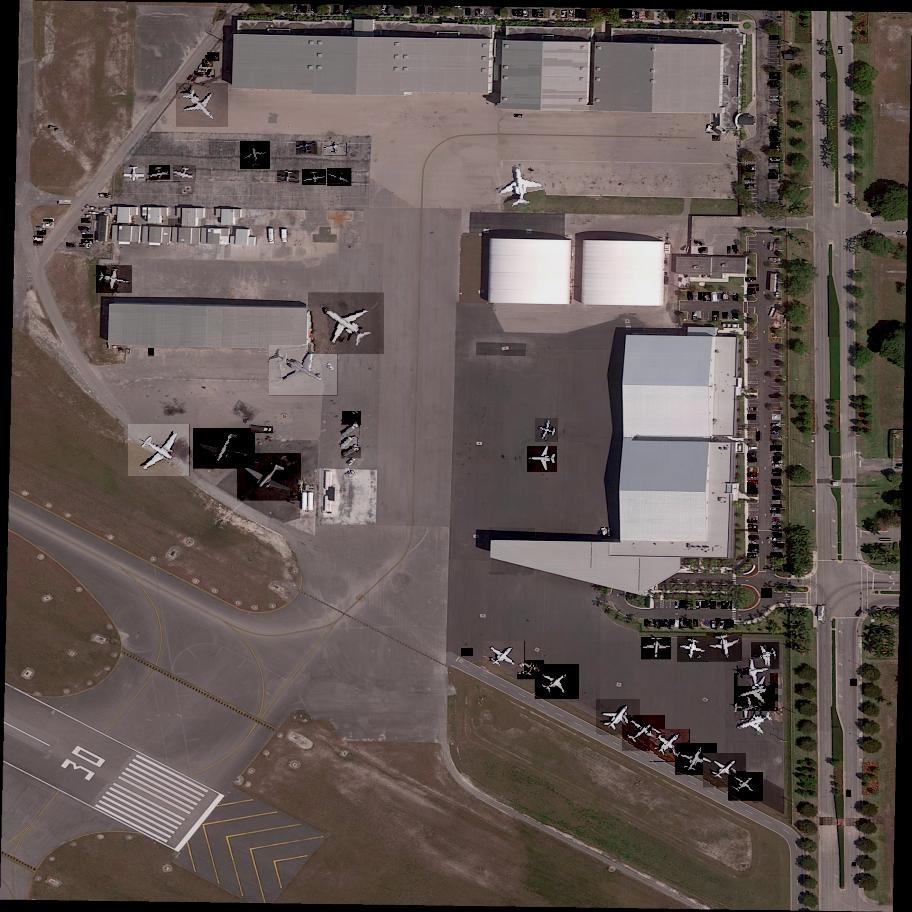large-vehicle: (342, 411, 361, 427), (341, 434, 359, 450), (341, 423, 359, 439), (342, 447, 361, 459), (252, 426, 272, 434), (818, 607, 826, 621)
plane: (308, 287, 384, 362), (269, 339, 338, 400), (128, 419, 190, 481), (237, 451, 302, 504), (194, 427, 256, 471), (177, 80, 228, 132), (496, 163, 547, 210), (536, 661, 580, 704), (622, 712, 666, 754), (703, 750, 746, 792), (596, 697, 640, 738), (734, 673, 779, 713), (734, 703, 778, 743), (484, 638, 525, 677), (650, 726, 690, 765), (675, 741, 717, 777), (728, 769, 763, 804), (707, 634, 743, 664), (97, 265, 133, 293), (738, 657, 771, 687), (751, 642, 781, 671), (240, 141, 271, 169), (677, 636, 708, 663), (527, 446, 557, 473), (517, 658, 544, 683), (642, 637, 671, 659), (535, 418, 559, 443), (734, 695, 757, 721), (327, 168, 352, 187), (174, 165, 198, 183), (302, 170, 326, 186), (149, 165, 171, 182), (277, 170, 300, 184), (325, 143, 348, 157), (296, 142, 319, 156), (125, 167, 145, 182)
small-vehicle: (344, 469, 358, 480), (346, 457, 358, 469), (762, 588, 774, 599), (207, 51, 220, 61), (202, 58, 213, 69), (725, 619, 735, 630), (461, 648, 473, 657), (42, 222, 55, 229), (619, 9, 628, 19), (703, 293, 712, 303), (712, 292, 720, 303), (748, 284, 759, 292), (693, 239, 704, 247), (712, 311, 720, 322), (206, 70, 215, 79), (206, 55, 215, 64), (770, 72, 780, 80), (333, 5, 341, 15), (710, 620, 718, 630), (680, 619, 688, 629), (699, 247, 709, 255), (770, 553, 783, 559), (748, 547, 759, 554), (768, 173, 779, 180), (747, 406, 758, 413), (600, 528, 608, 537), (625, 11, 633, 20), (575, 10, 583, 19), (770, 445, 782, 451), (37, 230, 47, 237), (686, 600, 693, 610), (685, 619, 692, 629), (687, 291, 694, 301), (772, 422, 782, 429), (768, 81, 779, 87), (769, 126, 780, 132), (747, 488, 758, 494), (748, 536, 759, 542), (769, 157, 780, 163), (732, 246, 740, 254), (418, 6, 425, 15), (512, 9, 519, 18), (723, 13, 730, 22), (707, 124, 714, 133), (649, 619, 656, 628), (721, 601, 728, 610), (723, 292, 730, 301), (67, 242, 77, 248), (198, 67, 208, 73), (200, 64, 210, 70), (721, 619, 727, 629), (772, 532, 782, 538), (871, 213, 881, 219), (769, 35, 779, 41), (748, 524, 758, 530), (746, 166, 756, 172), (771, 480, 781, 486), (747, 415, 757, 421), (772, 415, 782, 421), (640, 12, 647, 20), (850, 679, 857, 687), (98, 193, 109, 198), (747, 472, 758, 477), (772, 464, 783, 469), (34, 226, 43, 232), (712, 135, 721, 141), (562, 10, 568, 19), (524, 9, 530, 18), (195, 71, 204, 77), (773, 487, 782, 493), (748, 528, 758, 533), (749, 540, 759, 545), (668, 12, 675, 19), (705, 601, 712, 608), (475, 9, 481, 17), (329, 369, 335, 377), (78, 227, 90, 231), (518, 9, 524, 17), (748, 483, 756, 489), (733, 293, 739, 301), (34, 241, 43, 246), (538, 9, 543, 18), (700, 619, 705, 628), (747, 553, 756, 558), (772, 525, 781, 530), (769, 134, 778, 139), (747, 289, 756, 294), (773, 521, 782, 526), (465, 9, 471, 16), (659, 620, 665, 627), (726, 601, 732, 608), (693, 294, 699, 301), (723, 313, 729, 320), (149, 348, 154, 356), (707, 13, 712, 21), (293, 5, 298, 13), (770, 130, 778, 135), (715, 619, 720, 627), (770, 142, 780, 146), (773, 516, 781, 521), (771, 435, 781, 439), (81, 219, 90, 223), (81, 240, 93, 243), (59, 201, 71, 204), (701, 602, 707, 608), (748, 458, 757, 462), (747, 462, 756, 466), (749, 516, 758, 520), (772, 513, 781, 517), (756, 431, 760, 440), (581, 11, 586, 18), (532, 10, 537, 17), (343, 5, 348, 12), (311, 6, 316, 13), (693, 620, 698, 627), (681, 601, 686, 608), (670, 620, 675, 627), (846, 790, 851, 797), (692, 312, 697, 319), (34, 237, 42, 241), (711, 601, 715, 609), (655, 619, 659, 627), (867, 230, 875, 234), (745, 178, 753, 182), (771, 508, 779, 512), (897, 231, 907, 234), (688, 13, 693, 19), (302, 6, 307, 12), (382, 6, 388, 11), (665, 620, 670, 626), (773, 544, 783, 547), (748, 481, 758, 484), (749, 545, 759, 548), (696, 312, 701, 318), (772, 468, 782, 471), (718, 12, 722, 19), (570, 10, 574, 17), (675, 602, 679, 609), (706, 621, 710, 628), (675, 620, 679, 627), (838, 47, 842, 54), (80, 243, 89, 246), (747, 477, 756, 480), (772, 461, 781, 464), (644, 620, 649, 625), (732, 314, 737, 319), (428, 8, 432, 14), (515, 114, 521, 118), (496, 10, 499, 18), (692, 14, 696, 20), (632, 12, 636, 18), (697, 601, 700, 609), (774, 549, 782, 552), (747, 454, 755, 457), (768, 537, 776, 540), (718, 294, 722, 300), (772, 497, 780, 500), (773, 473, 781, 476), (774, 456, 780, 460), (607, 528, 610, 535), (698, 12, 701, 19), (636, 12, 639, 19), (298, 5, 301, 12), (699, 293, 702, 300), (746, 185, 753, 188), (769, 170, 776, 173), (773, 501, 780, 504), (83, 235, 93, 237), (770, 146, 780, 148), (771, 504, 781, 506), (702, 14, 705, 20), (747, 520, 756, 522), (746, 278, 755, 280), (771, 431, 777, 434), (480, 10, 484, 14), (728, 246, 730, 253), (852, 863, 856, 866), (44, 219, 53, 220), (770, 97, 779, 98), (769, 139, 777, 140), (773, 492, 781, 493), (773, 485, 780, 486)
